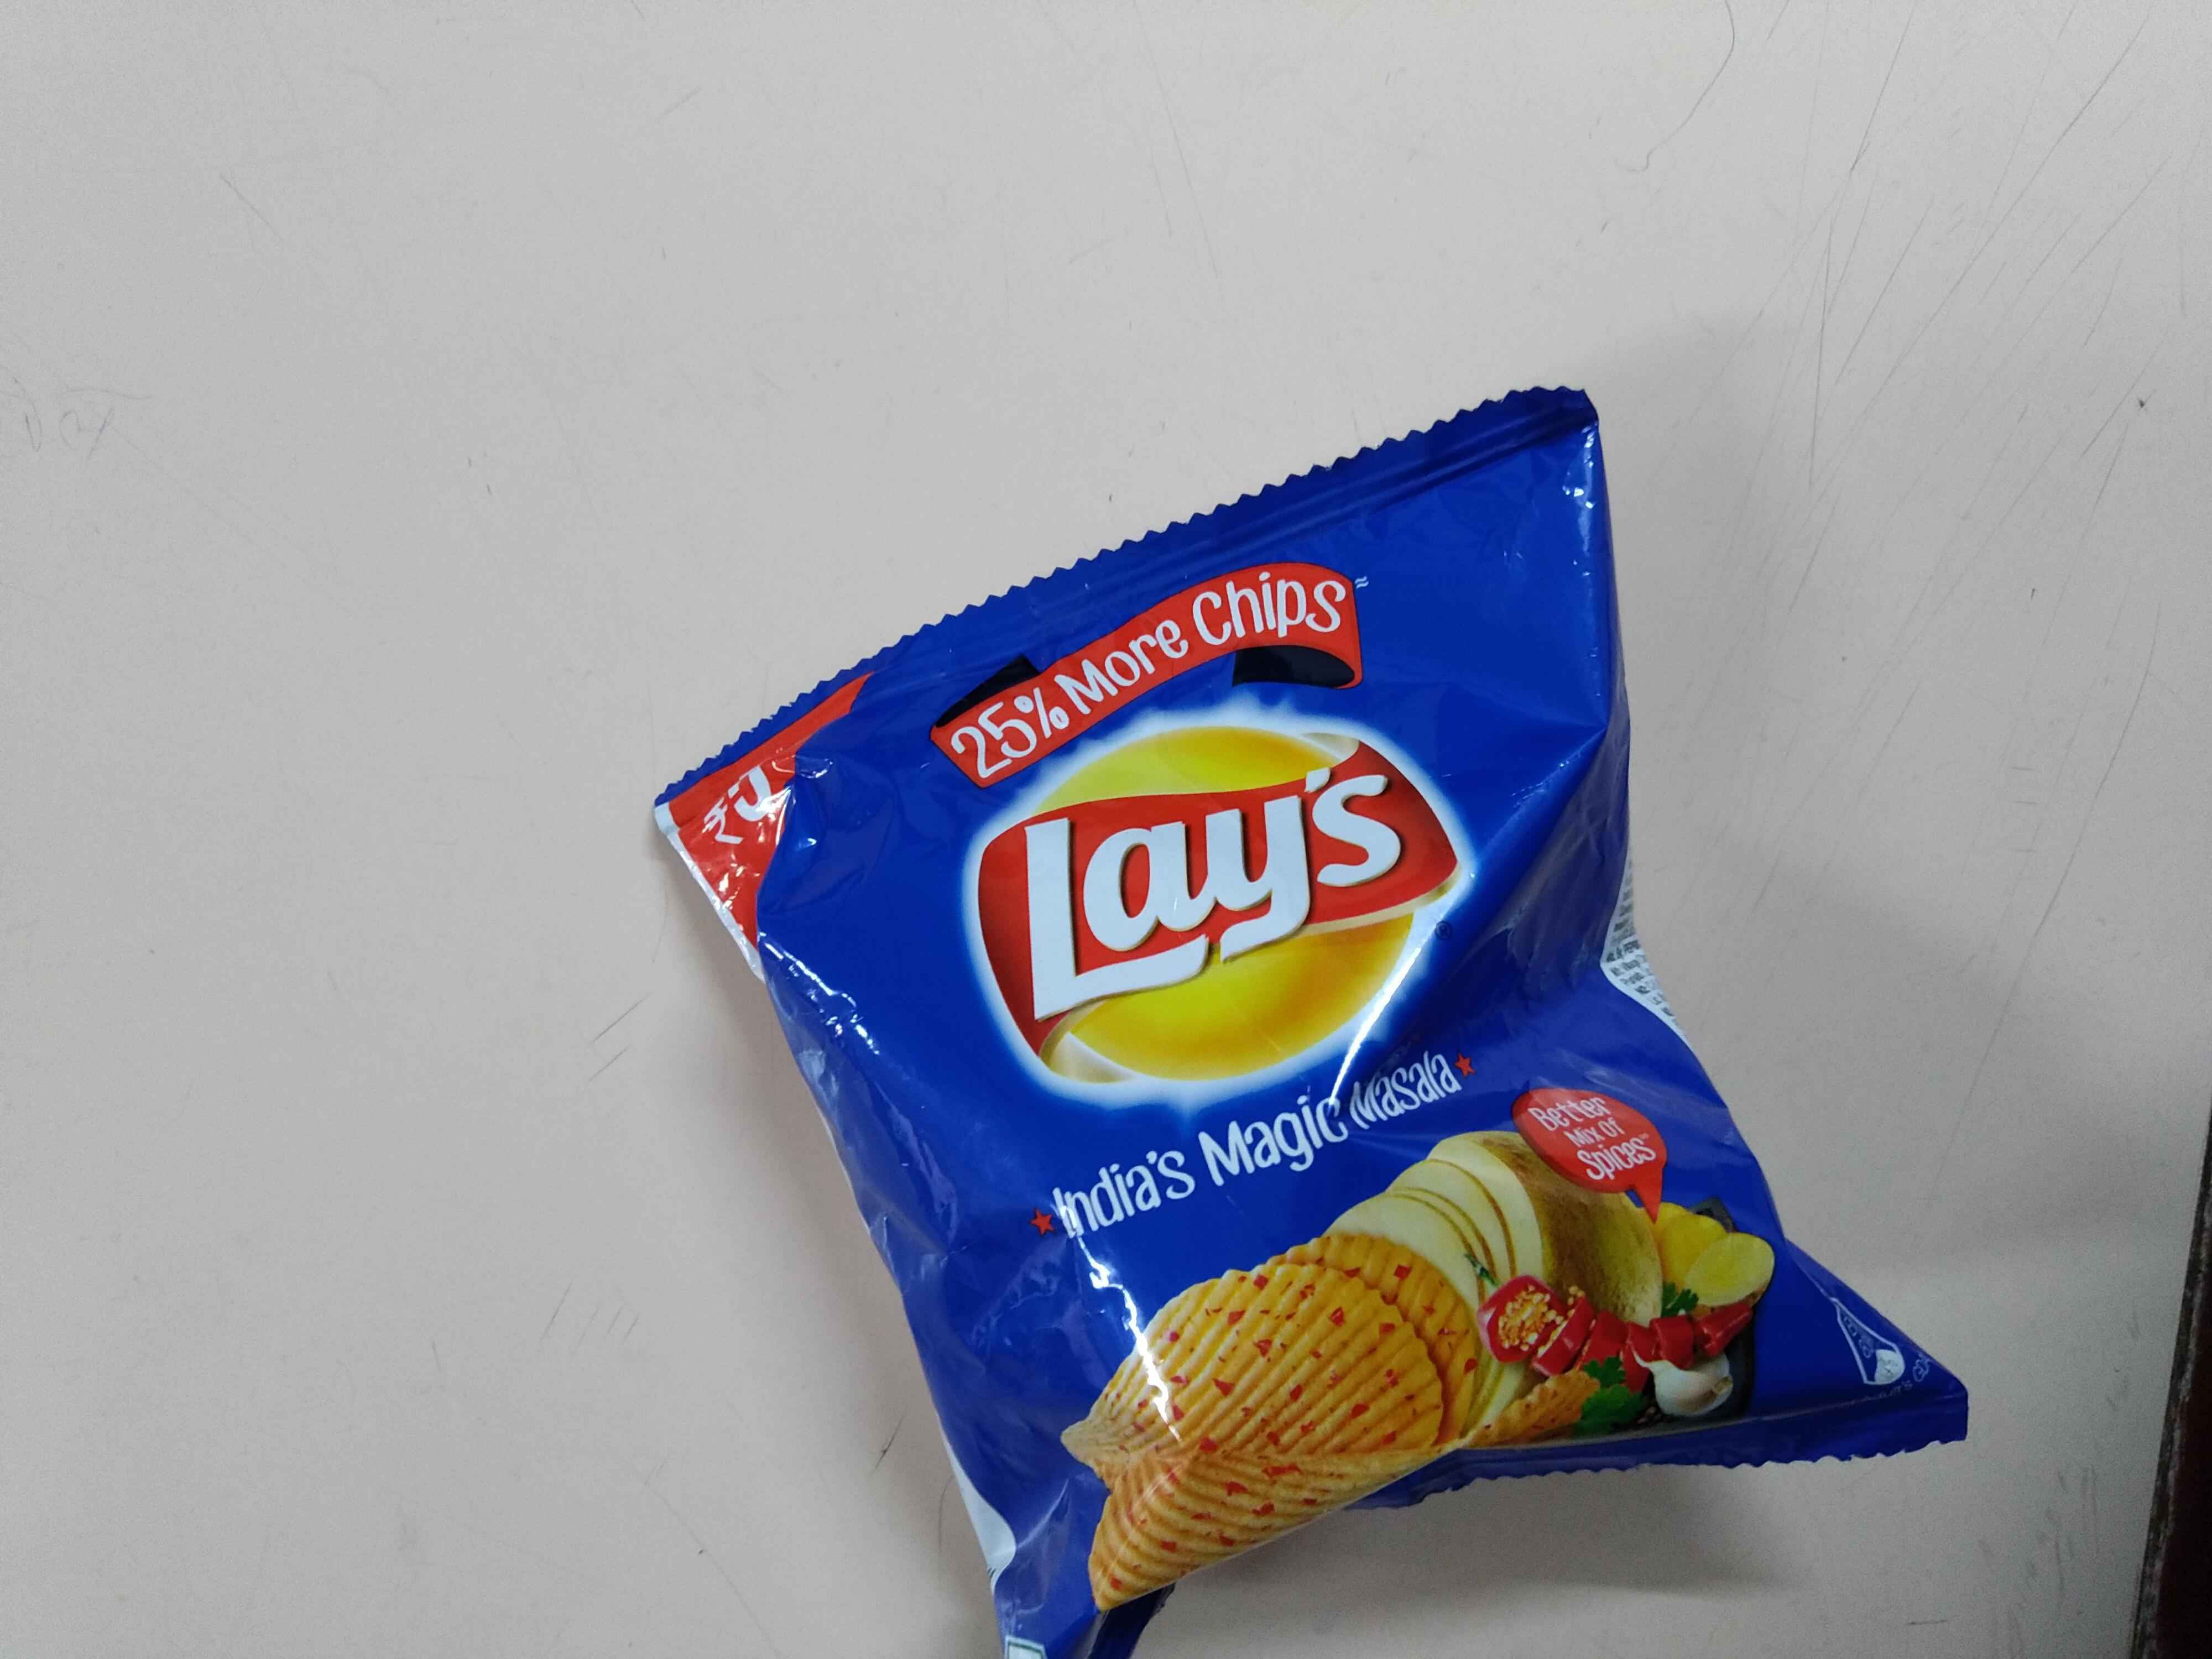Lays: (970, 730, 1500, 1019)
